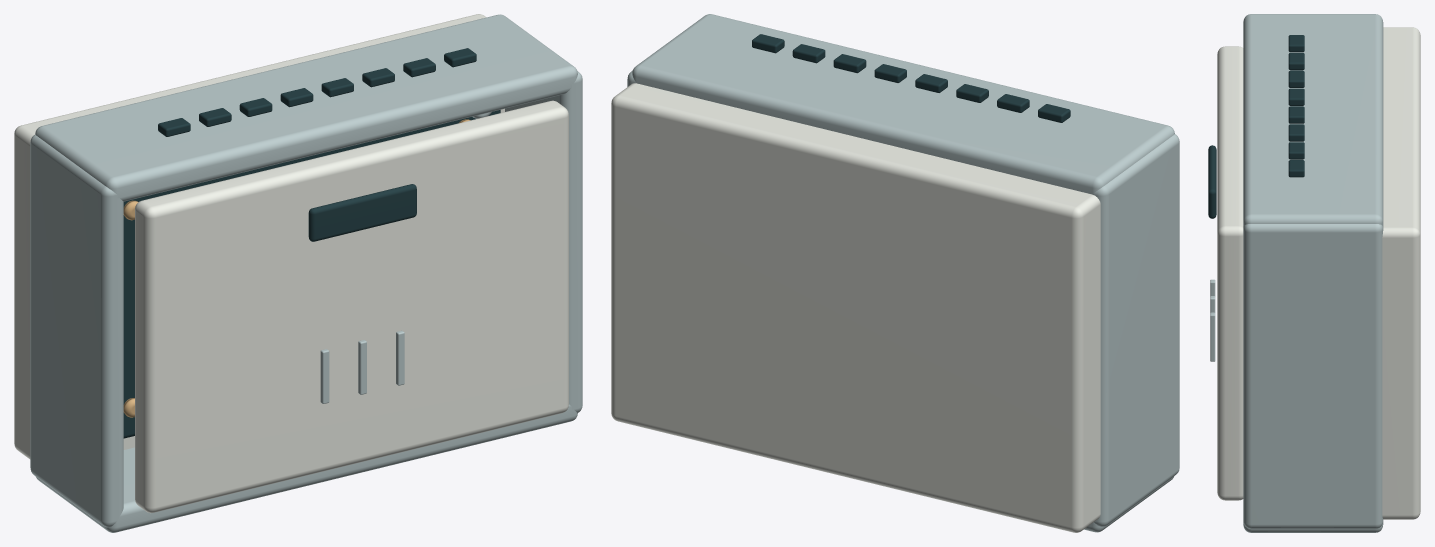
Rendered from service-cache.glb.
3 views of the same model, side by side, from view 1: azimuth 30°, elevation 25°; view 2: azimuth 150°, elevation 25°; view 3: azimuth 270°, elevation 25° (orthographic). The views are drawn at different scales.
Visible parts, largest first — view 1: Maintenance panel, service-cache | Secret | machined aluminum, Backplate, service-cache | Secret | graphite, Clasp shadow, ServiceHinge | Secret | machined aluminum; view 2: Backplate, service-cache | Secret | machined aluminum, service-cache | Secret | graphite; view 3: service-cache | Secret | machined aluminum, Backplate, Maintenance panel, service-cache | Secret | graphite, Clasp shadow, ServiceHinge | Secret | machined aluminum.
Part boxes in pixels (x1,y1,x2,y2): Maintenance panel: [135, 100, 568, 513]; service-cache | Secret | machined aluminum: [30, 14, 582, 532]; Backplate: [14, 14, 504, 459]; service-cache | Secret | graphite: [123, 48, 500, 438]; Clasp shadow: [308, 184, 416, 241]; ServiceHinge | Secret | machined aluminum: [320, 330, 404, 403]; Backplate: [611, 83, 1100, 532]; service-cache | Secret | machined aluminum: [627, 14, 1179, 532]; service-cache | Secret | graphite: [752, 34, 1070, 122]; service-cache | Secret | machined aluminum: [1243, 14, 1383, 532]; Backplate: [1382, 27, 1420, 519]; Maintenance panel: [1217, 46, 1243, 500]; service-cache | Secret | graphite: [1288, 35, 1304, 177]; Clasp shadow: [1208, 145, 1216, 218]; ServiceHinge | Secret | machined aluminum: [1210, 279, 1215, 361].
Size of the model in its own units: 1.53 by 1.12 by 0.6525.
